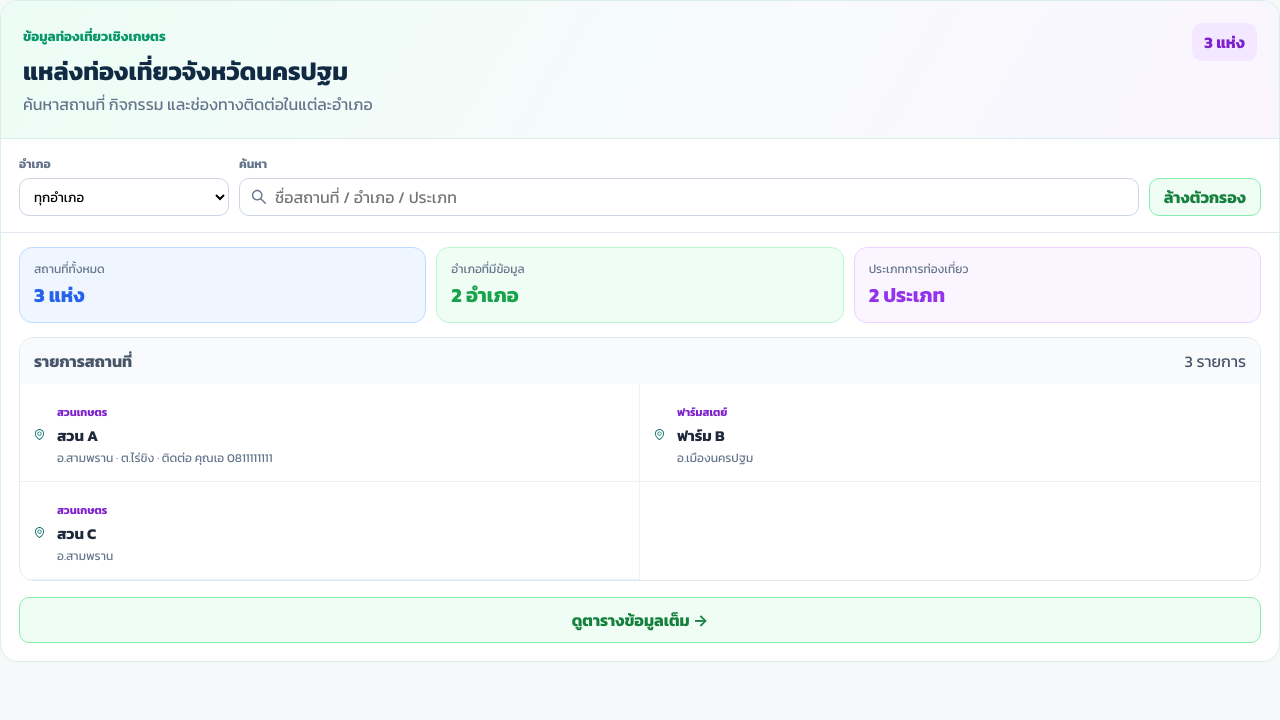
Test: AgriTourismWidget › filters details and links to the full table
Select "สามพราน" in the dropdown labelled "อำเภอ" at (124, 197), box [19, 178, 229, 216]
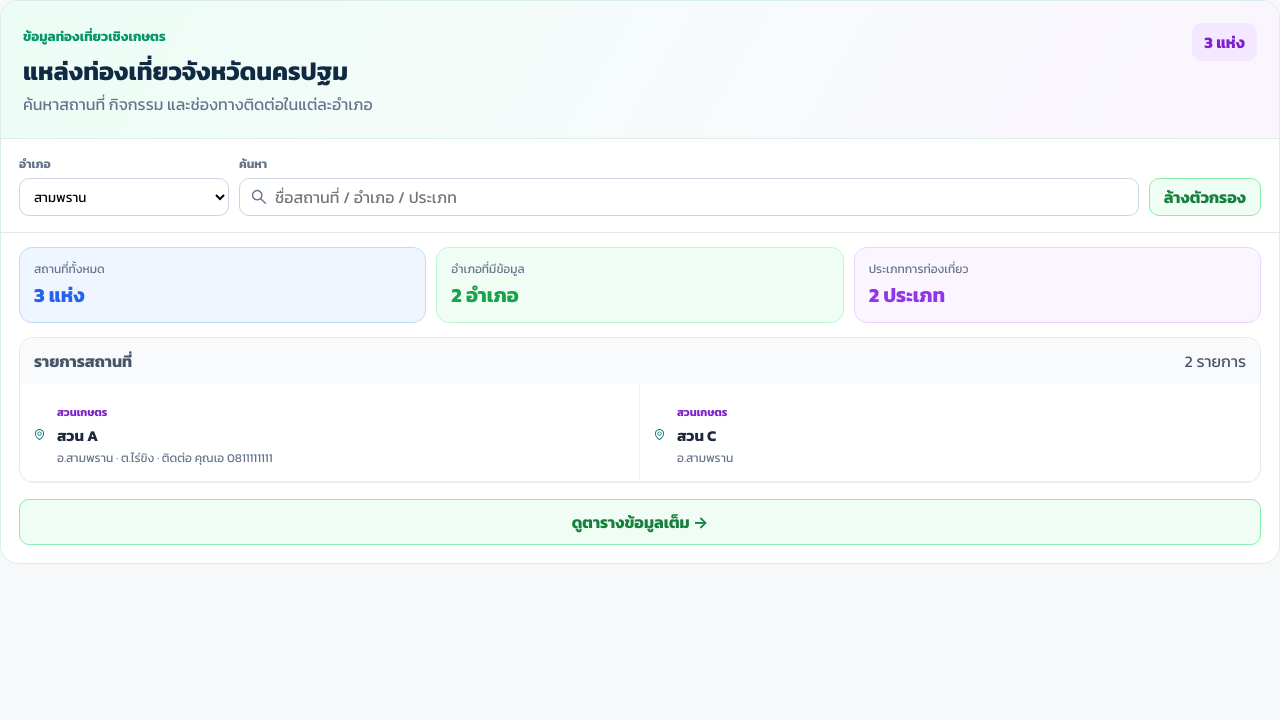
Check: the heading "สวน A" is shown, box [57, 424, 98, 447]
Check: the heading "ฟาร์ม B" is gone
Type "สวน C" into the field labelled "ค้นหา" at (701, 197), box [275, 185, 1127, 209]
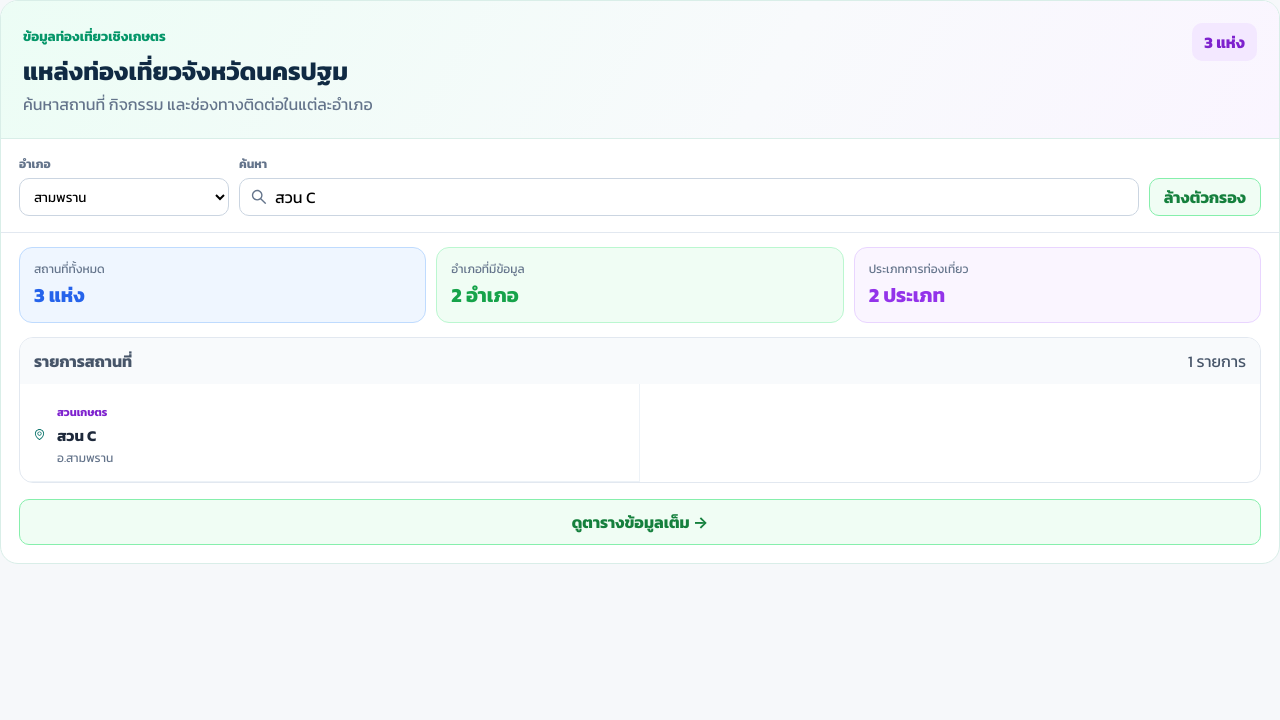
Check: the heading "สวน C" is shown, box [57, 424, 96, 447]
Check: the heading "สวน A" is gone
Click the button "ล้างตัวกรอง" at (1205, 197), box [1149, 178, 1261, 216]
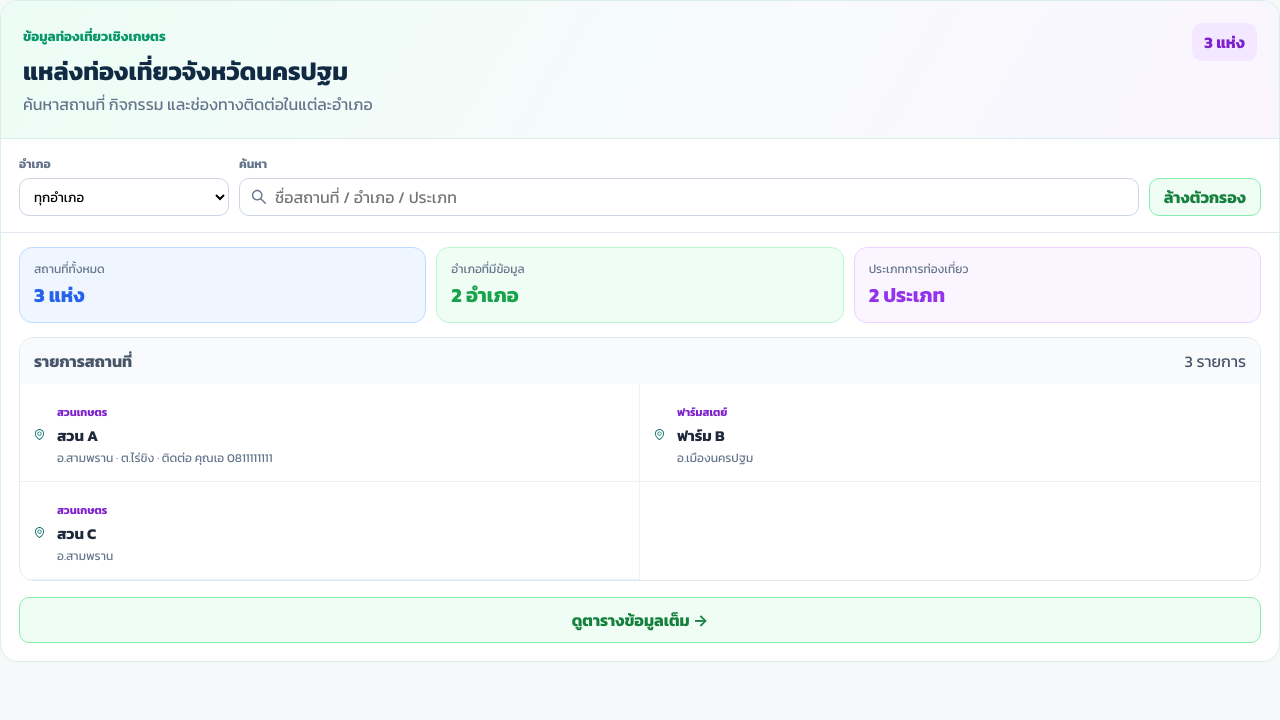
Check: the heading "ฟาร์ม B" is shown, box [677, 424, 725, 447]
